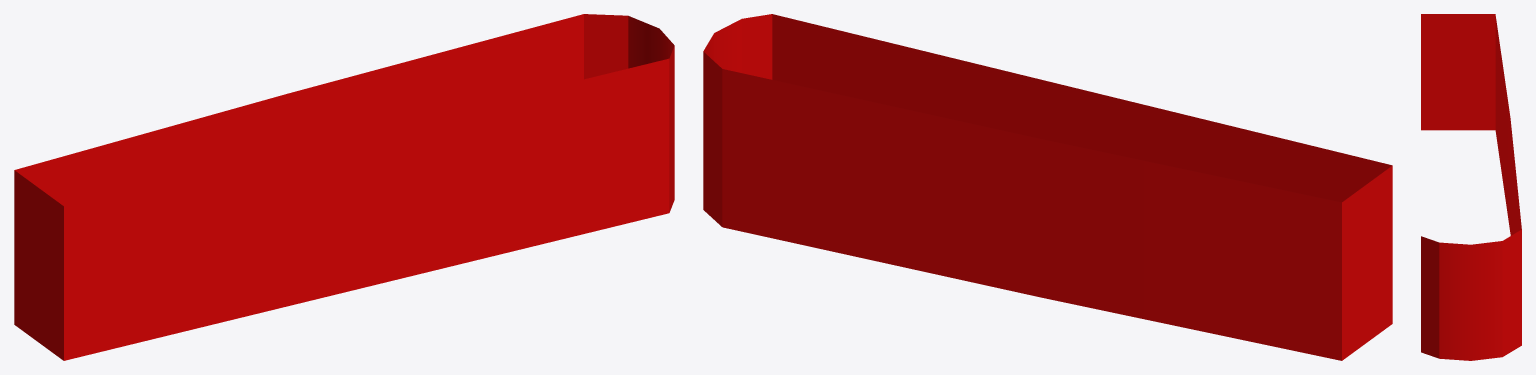
File: original-57.obj
The picture shows the model from 3 angles, left to right: view 1: azimuth 30°, elevation 25°; view 2: azimuth 150°, elevation 25°; view 3: azimuth 270°, elevation 25°; orthographic projection. The views are drawn at different scales.
Visible parts, largest first — view 1: #ID100; view 2: #ID100; view 3: #ID100.
Boxes of the visible parts, x1,y1,x2,y2 form: #ID100: (14, 14, 674, 360); #ID100: (703, 14, 1392, 360); #ID100: (1421, 14, 1521, 360).
Size of the model in its own units: 0.00749 by 0.00176 by 0.00138.
